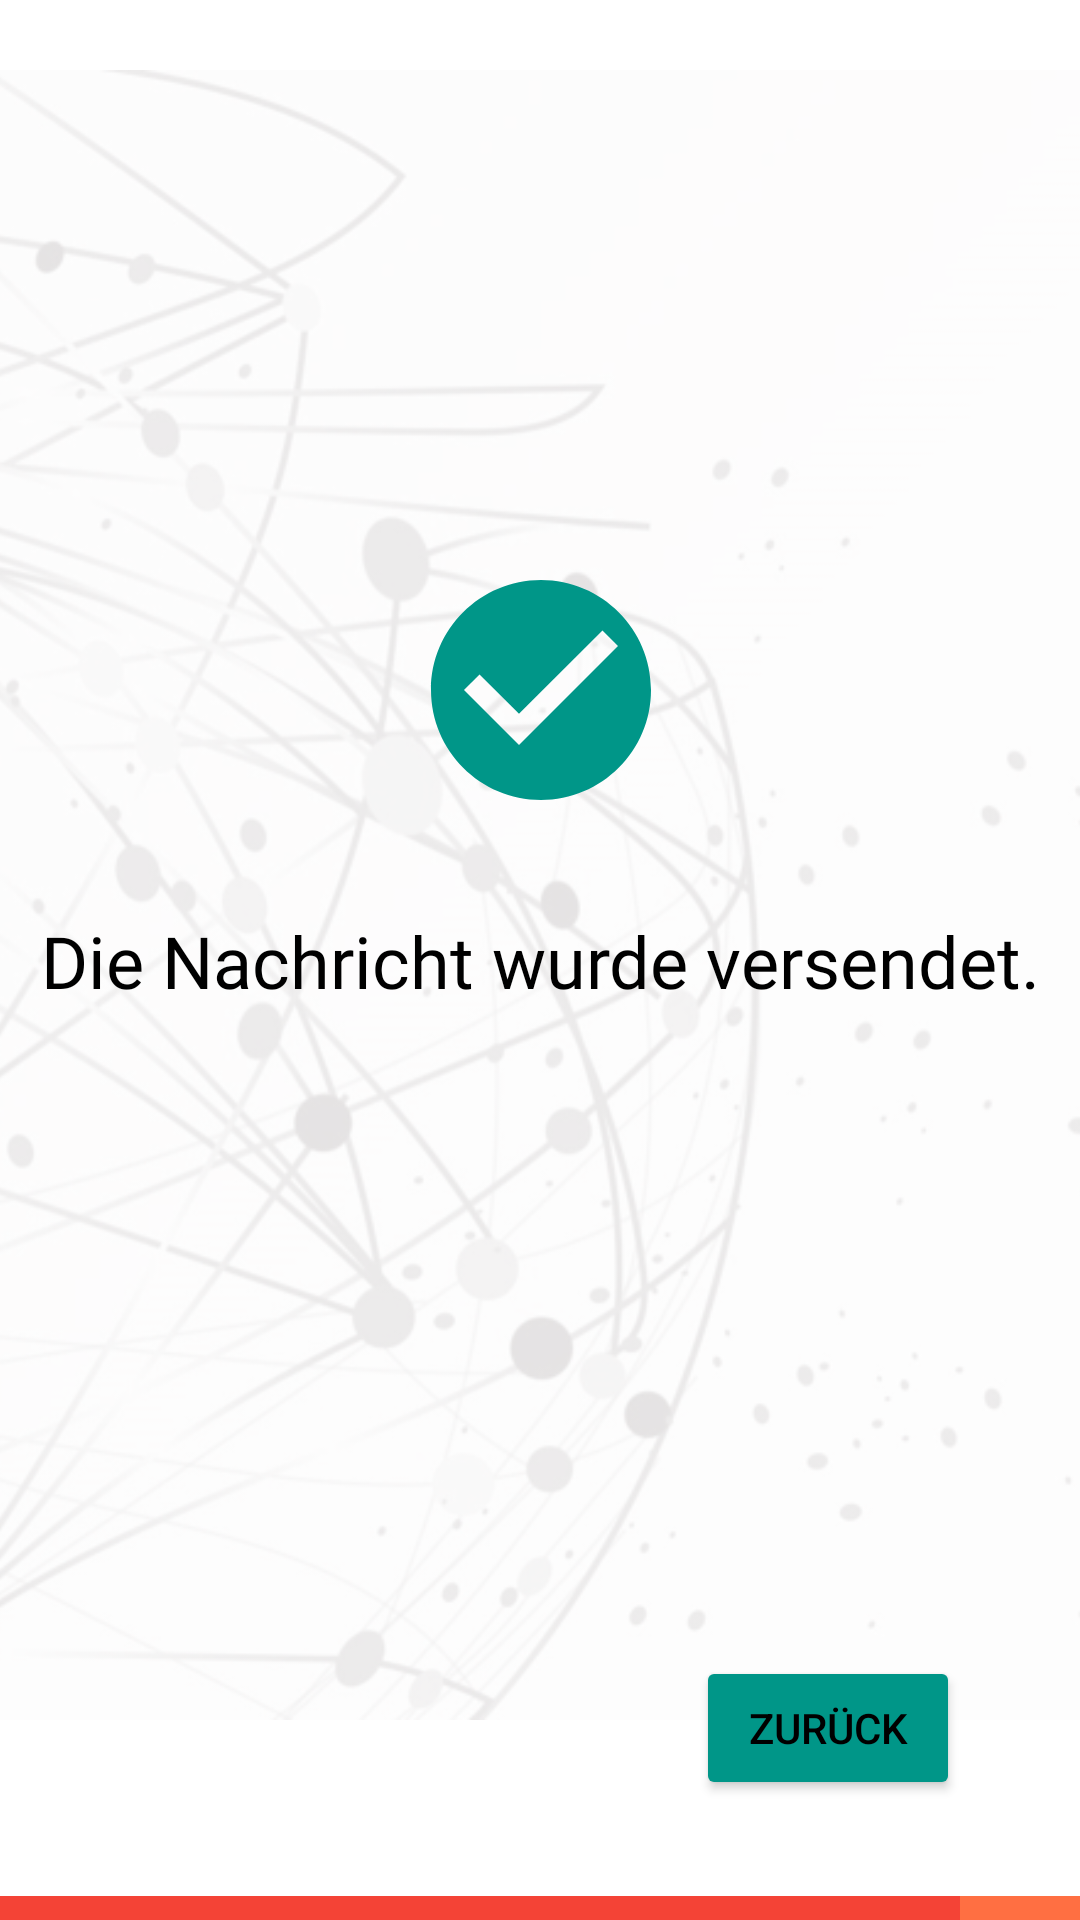

Icons on this 1080 × 1920 Android screen, each with its box as bbox=(x1, y1, x2, y2):
check circle: bbox=(430, 575, 651, 800)
